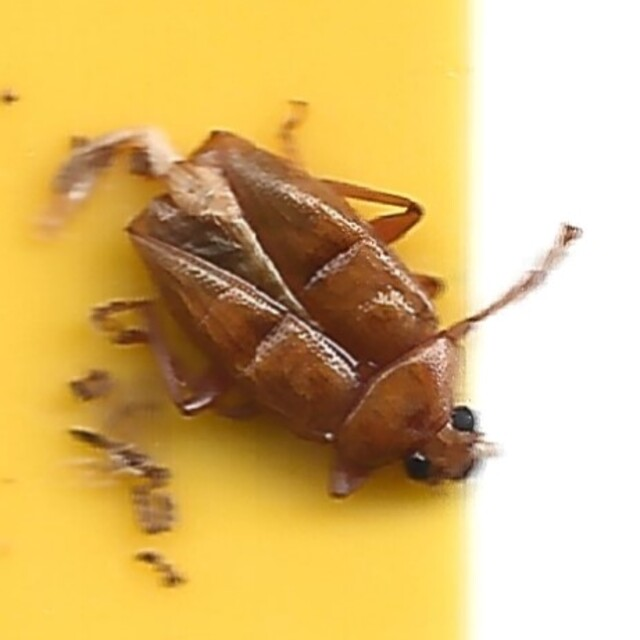Coleoptera: (139, 137, 501, 503)
